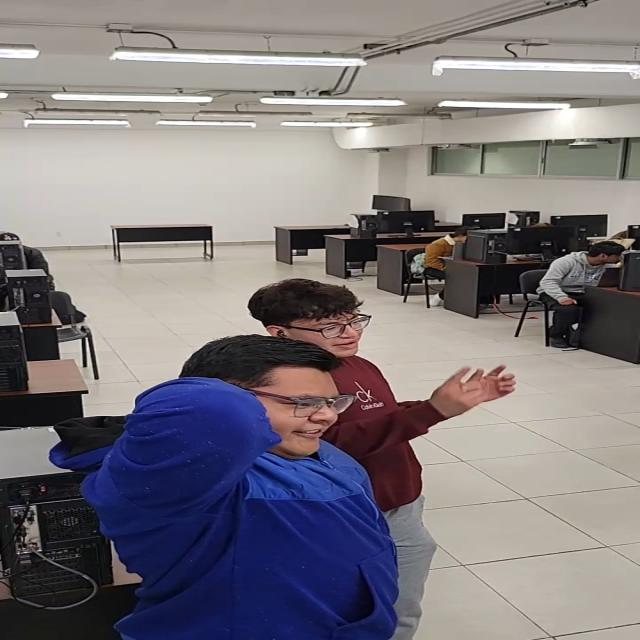Persona: (80, 331, 404, 640), (240, 274, 469, 640)
